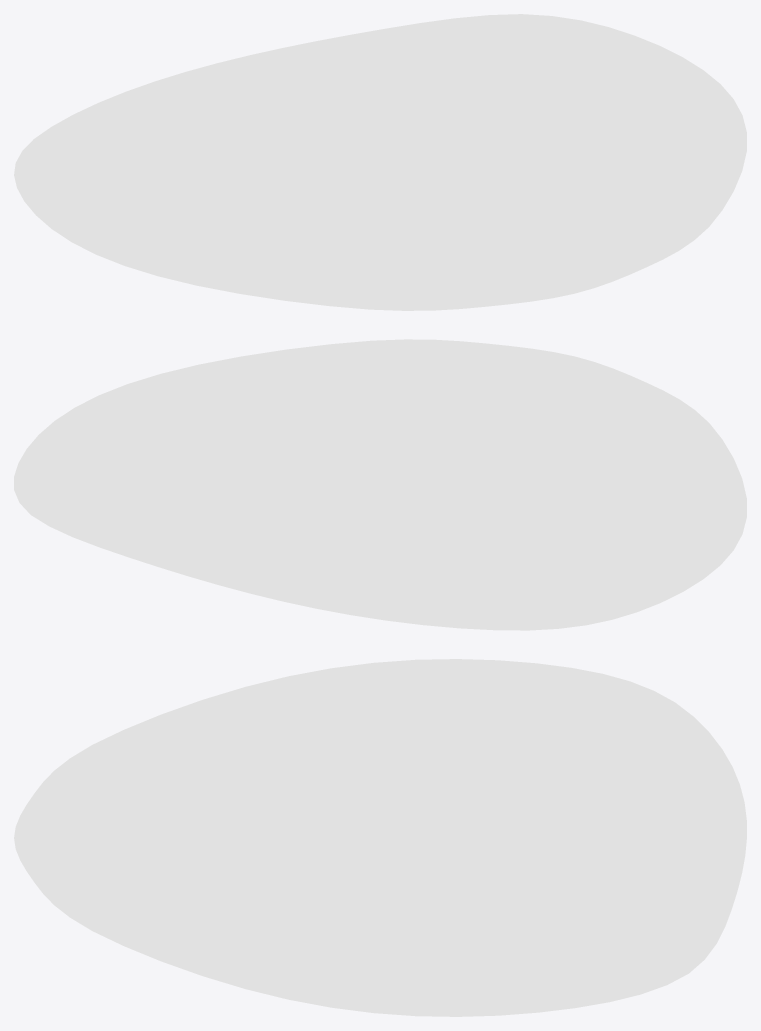
Rendered from sea_plane.glb.
3 renders of one model, top to bottom at view 1: azimuth 30°, elevation 25°; view 2: azimuth 150°, elevation 25°; view 3: azimuth 270°, elevation 25°, orthographic. The views are drawn at different scales.
Parts seen in each view (by area): view 1: sea; view 2: sea; view 3: sea.
Boxes of the visible parts, x1,y1,x2,y2 form: sea: (14, 14, 746, 310); sea: (14, 339, 746, 630); sea: (14, 659, 746, 1016).
Size of the model in its own units: 5.04 by 0 by 4.36.
Materials: 1 (1 with a texture image).
